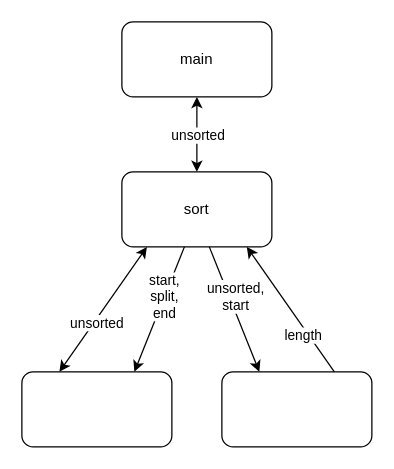
This 394x469 diagram has some shape labels left out. The centre of each missing label's shape, as x and y in pixels:
inOrderAt: pixel 296 409
mergeRanges: pixel 96 409
